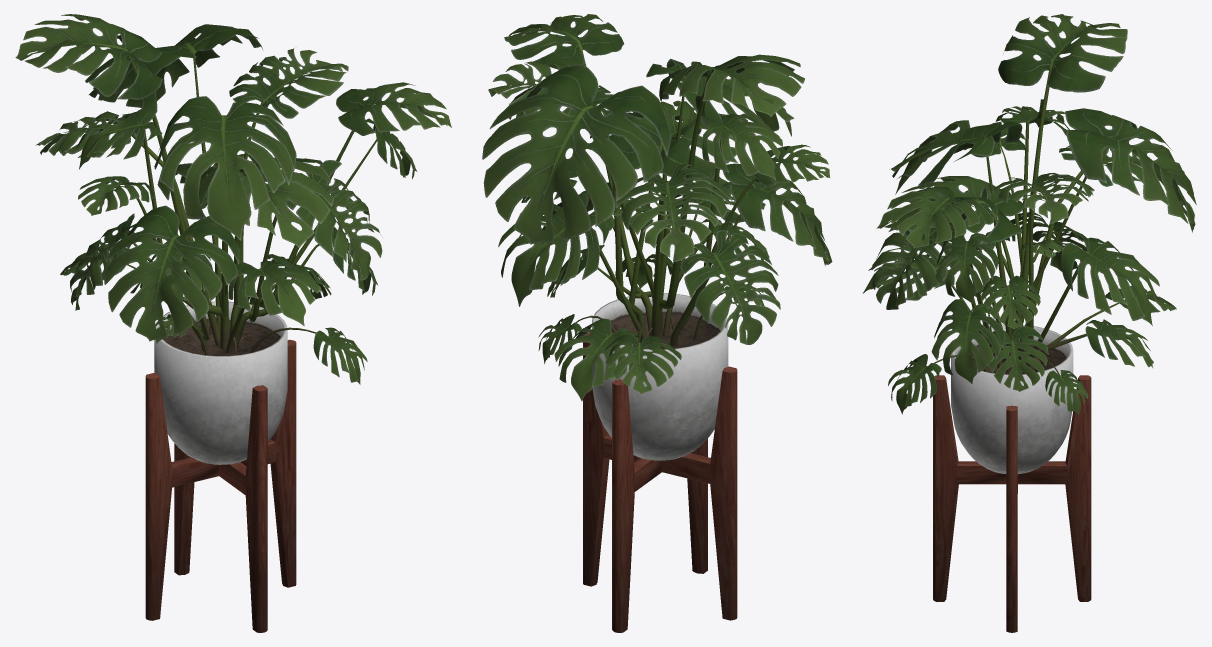
File: monstera.glb
3 renders of one model, left to right at view 1: azimuth 30°, elevation 25°; view 2: azimuth 150°, elevation 25°; view 3: azimuth 270°, elevation 25°, orthographic. The views are drawn at different scales.
Visible parts, largest first — view 1: Leaves_Mat.1_0, Stand_Mat_0, root_HP_1_Mat.2_0; view 2: Leaves_Mat.1_0, Stand_Mat_0, root_HP_1_Mat.2_0; view 3: Leaves_Mat.1_0, Stand_Mat_0, root_HP_1_Mat.2_0.
Boxes of the visible parts, x1=… form: Leaves_Mat.1_0: x1=15, y1=14, x2=451, y2=384; Stand_Mat_0: x1=145, y1=301, x2=296, y2=632; root_HP_1_Mat.2_0: x1=127, y1=53, x2=376, y2=355; Leaves_Mat.1_0: x1=482, y1=14, x2=832, y2=401; Stand_Mat_0: x1=583, y1=293, x2=737, y2=632; root_HP_1_Mat.2_0: x1=559, y1=50, x2=756, y2=346; Leaves_Mat.1_0: x1=862, y1=14, x2=1196, y2=414; Stand_Mat_0: x1=933, y1=324, x2=1091, y2=632; root_HP_1_Mat.2_0: x1=933, y1=68, x2=1119, y2=375.
Bounding box in the file's own units: 0.8695 × 1.36 × 0.7911.
Materials: 3 (3 with a texture image).
